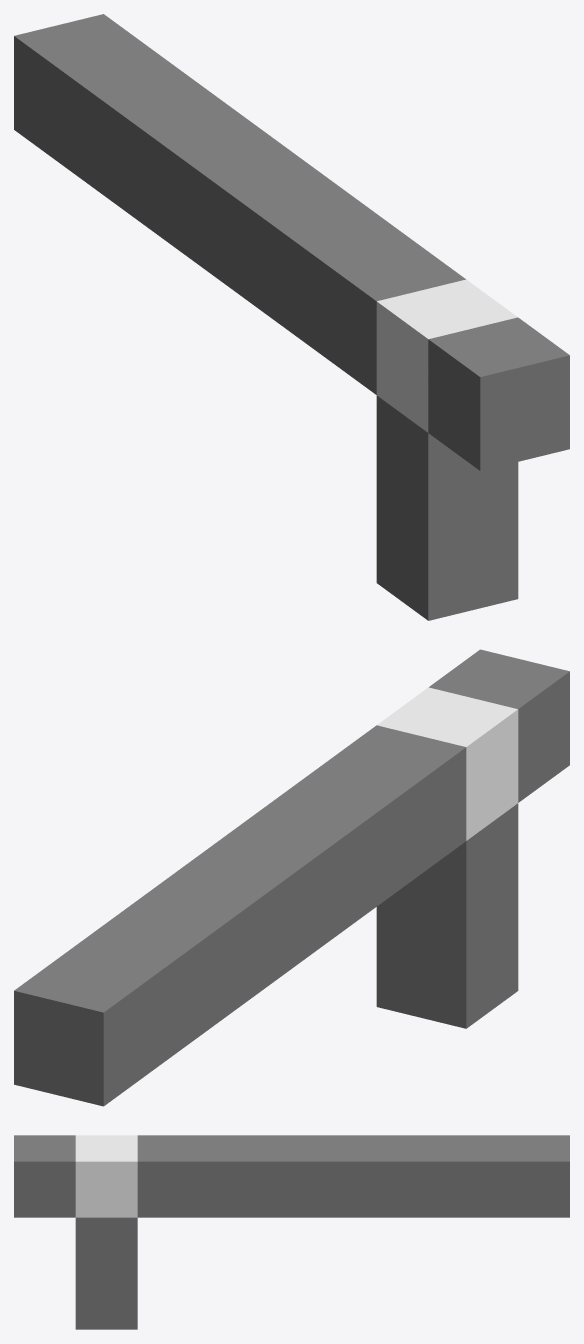
Rendered from Extra-16-Warship_Canon2.obj.
3 renders of one model, top to bottom at view 1: azimuth 30°, elevation 25°; view 2: azimuth 150°, elevation 25°; view 3: azimuth 270°, elevation 25°, orthographic. The views are drawn at different scales.
Visible parts, largest first — view 1: Warship_Canon2; view 2: Warship_Canon2; view 3: Warship_Canon2.
Boxes of the visible parts, <box> form: Warship_Canon2: <box>14,14,569,620</box>; Warship_Canon2: <box>14,649,569,1106</box>; Warship_Canon2: <box>14,1135,569,1329</box>.
Bounding box in the file's own units: 0.1 × 0.3 × 0.9.
1 material, 1 textured.
